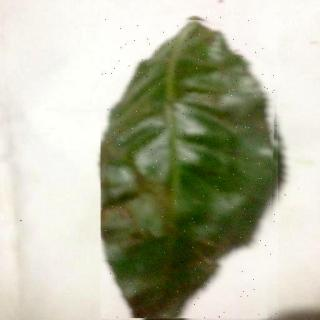Red Leaf Spot: (102, 17, 279, 320)
